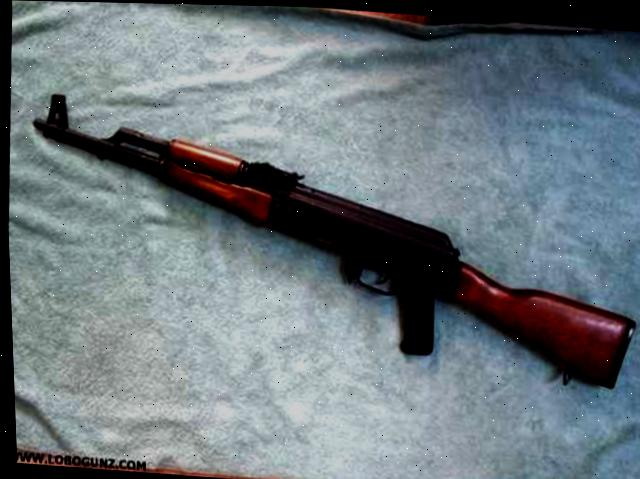rifle: (15, 76, 633, 427)
